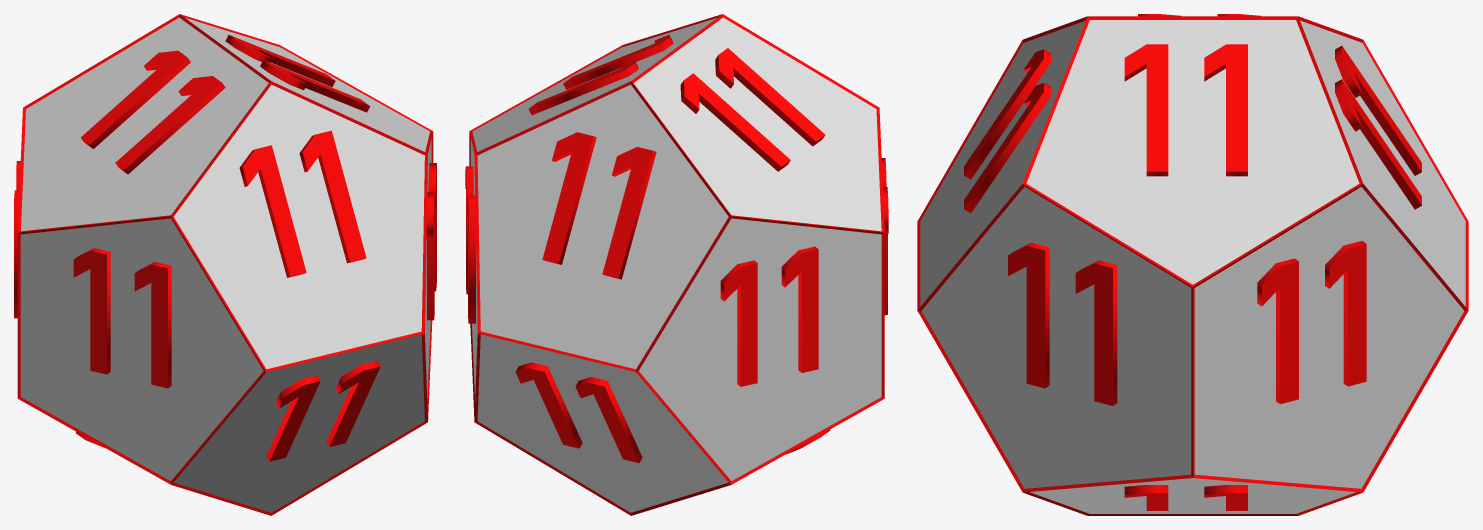
Rendered from dodecahedron_sign-11.glb.
3 renders of one model, left to right at view 1: azimuth 30°, elevation 25°; view 2: azimuth 150°, elevation 25°; view 3: azimuth 270°, elevation 25°, orthographic. The views are drawn at different scales.
Visible parts, largest first — view 1: Dodecahedron_Solid, Dodecahedron_Wire, Text20_5, Text20_11, Text20_7, Text20_10, Text20_2, Text20_6, Text20_8; view 2: Dodecahedron_Solid, Dodecahedron_Wire, Text20_0, Text20_8, Text20_7, Text20_3, Text20_2, Text20_1, Text20_11; view 3: Dodecahedron_Solid, Dodecahedron_Wire, Text20_1, Text20_6, Text20_2, Text20_0, Text20_5, Text20_4.
Part boxes in pixels (left/top/right/bottom): Dodecahedron_Solid: left=20, top=17, right=431, bottom=512; Dodecahedron_Wire: left=17, top=14, right=433, bottom=515; Text20_5: left=239, top=130, right=366, bottom=277; Text20_11: left=73, top=248, right=171, bottom=388; Text20_7: left=81, top=50, right=225, bottom=174; Text20_10: left=266, top=360, right=380, bottom=461; Text20_2: left=225, top=35, right=370, bottom=112; Text20_6: left=426, top=163, right=436, bottom=320; Text20_8: left=14, top=161, right=20, bottom=318; Dodecahedron_Solid: left=470, top=17, right=881, bottom=512; Dodecahedron_Wire: left=469, top=14, right=884, bottom=515; Text20_0: left=542, top=132, right=656, bottom=279; Text20_8: left=720, top=246, right=818, bottom=386; Text20_7: left=680, top=48, right=825, bottom=171; Text20_3: left=515, top=362, right=642, bottom=463; Text20_2: left=528, top=35, right=673, bottom=115; Text20_1: left=465, top=166, right=475, bottom=323; Text20_11: left=881, top=158, right=888, bottom=315; Dodecahedron_Solid: left=920, top=20, right=1465, bottom=513; Dodecahedron_Wire: left=917, top=16, right=1468, bottom=515; Text20_1: left=1257, top=241, right=1366, bottom=403; Text20_6: left=1008, top=242, right=1117, bottom=405; Text20_2: left=1124, top=44, right=1247, bottom=176; Text20_0: left=1335, top=46, right=1421, bottom=209; Text20_5: left=964, top=49, right=1050, bottom=212; Text20_4: left=1124, top=485, right=1247, bottom=510.
Bounding box in the file's own units: 3.26 × 3.26 × 3.26.
